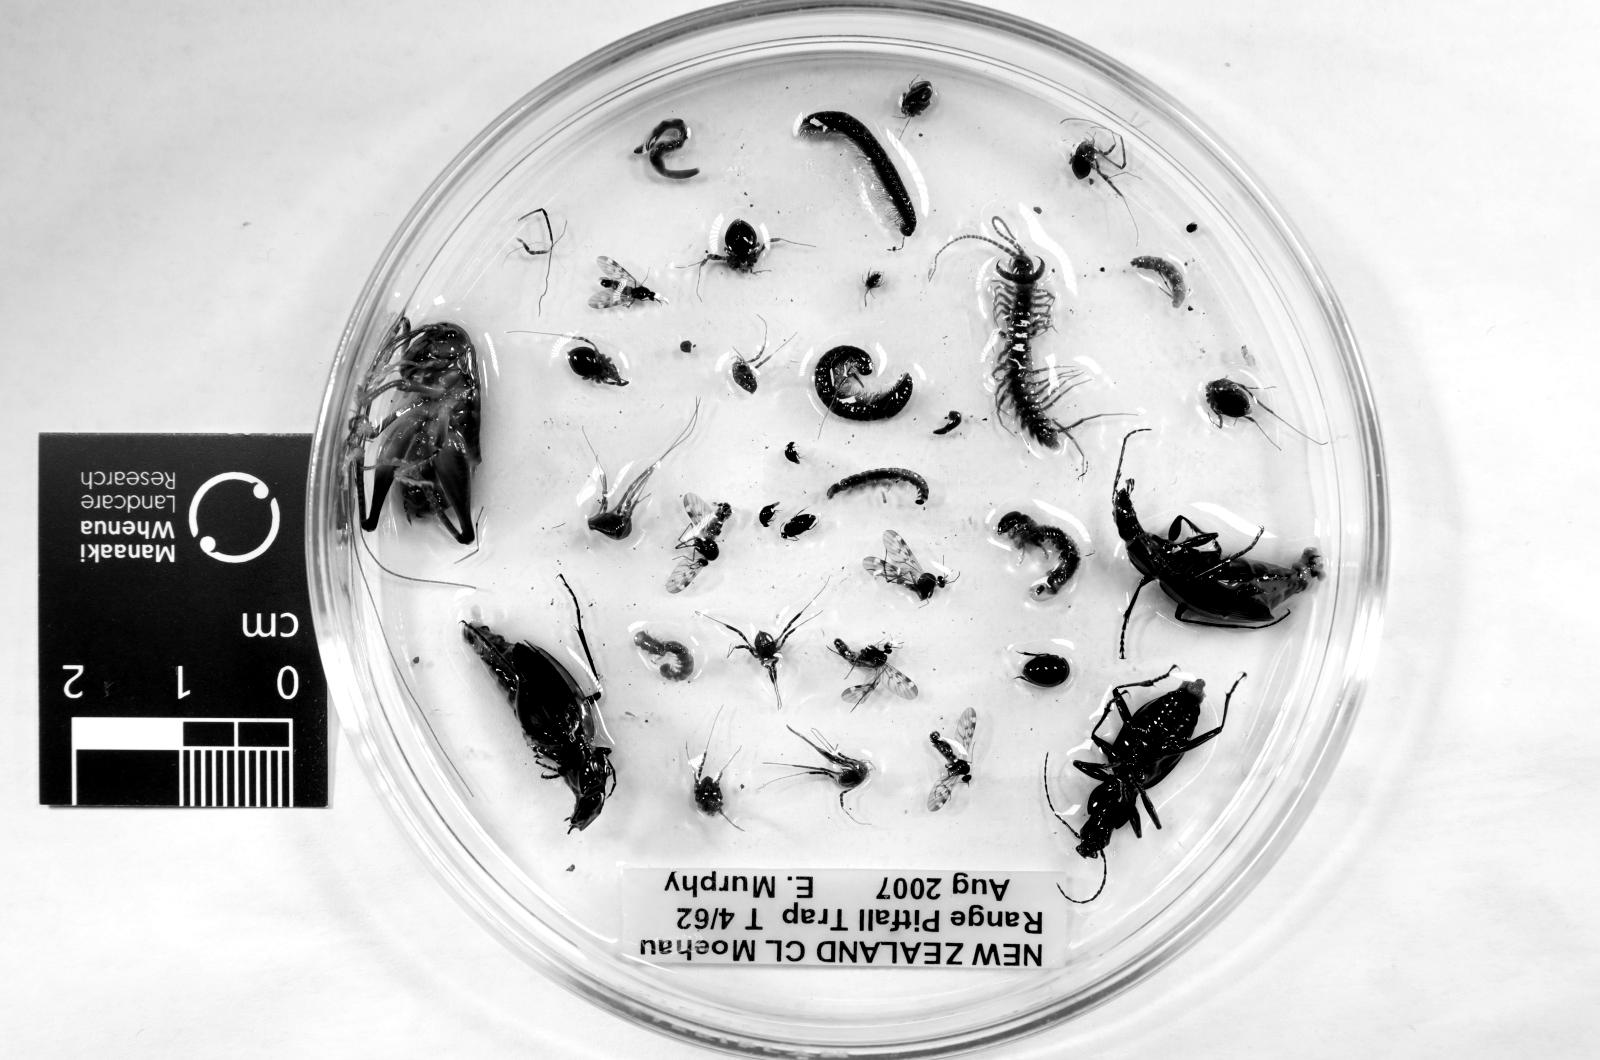acari: (866, 270, 881, 298)
annelida: (634, 118, 697, 180)
carabidae: (462, 621, 616, 829), (1113, 481, 1324, 631), (1075, 680, 1222, 857)
chilopoda: (944, 218, 1081, 451)
coleoptera: (1018, 652, 1071, 690), (782, 512, 816, 541), (759, 503, 778, 528), (784, 441, 799, 463)
coleoptera_larva: (997, 512, 1081, 602), (828, 468, 928, 506), (634, 631, 694, 680)
diplopoda: (803, 111, 915, 237), (816, 344, 913, 422)
diptera: (666, 493, 731, 593), (862, 531, 950, 600), (835, 640, 919, 705), (928, 707, 974, 810), (588, 254, 662, 308)
opiliones: (588, 401, 700, 541), (721, 608, 803, 707), (793, 736, 872, 807), (700, 220, 765, 273), (1069, 137, 1125, 195), (569, 344, 628, 386), (731, 338, 772, 394), (1206, 379, 1250, 426), (694, 751, 725, 816)
orthoptera: (344, 317, 481, 543)
